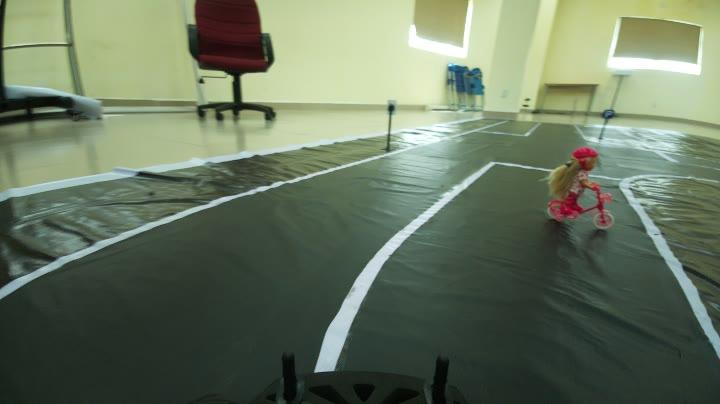pedestrian: (548, 141, 626, 224)
